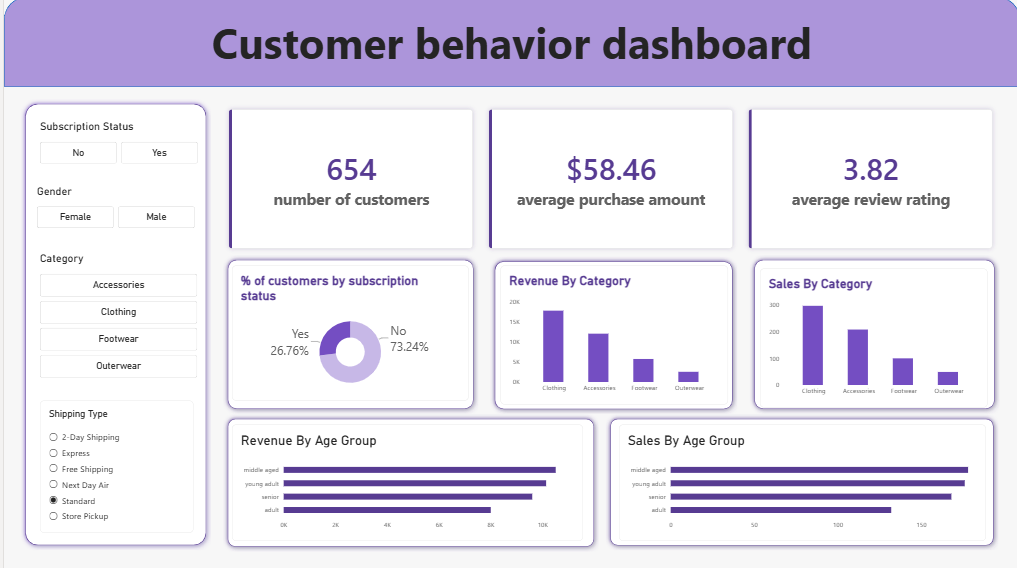

The page's visual inventory and layout, read from the dashboard file:
{"tool":"powerbi","page":{"name":"Page 1","canvas":[1920,1080],"ordinal":0},"visuals":[{"type":"cardVisual","fields":{"Data":["public customer.number of customers","public customer.average purchase amount","public customer.average review rating"]},"box":[412.5,202.5,1467.5,285],"z":0},{"type":"shape","box":[0,0,1920,170],"z":1000},{"type":"textbox","box":[0,32.5,1920,110],"z":2000},{"type":"shape","box":[412.5,487.5,482.5,300],"z":3000},{"type":"donutChart","title":"% of customers by subscription status","fields":{"Category":["public customer.subscription_status"],"Y":["CountNonNull(public customer.customer_id)"]},"box":[430,507.5,447.5,255],"z":4000},{"type":"shape","box":[917.5,490,467.5,297.5],"z":5000},{"type":"shape","box":[1407.5,487.5,472.5,300],"z":6000},{"type":"clusteredColumnChart","title":"Revenue By Category ","fields":{"Category":["public customer.category"],"Y":["Sum(public customer.purchase_amount)"]},"box":[937.5,507.5,430,262.5],"z":7000},{"type":"clusteredColumnChart","title":"Sales By Category ","fields":{"Category":["public customer.category"],"Y":["CountNonNull(public customer.customer_id)"]},"box":[1427.5,512.5,430,262.5],"z":8000},{"type":"shape","box":[32.5,192.5,360,852.5],"z":9000},{"type":"advancedSlicerVisual","fields":{"Values":["public customer.subscription_status"]},"box":[67.5,232.5,298,83],"z":10000},{"type":"advancedSlicerVisual","fields":{"Values":["public customer.gender"]},"box":[62.5,355,298,83],"z":11000},{"type":"advancedSlicerVisual","fields":{"Values":["public customer.category"]},"box":[67.5,482.5,297.5,240],"z":12000},{"type":"listSlicer","fields":{"Values":["public customer.shipping_type"]},"box":[67.5,762.5,290,250],"z":13000},{"type":"shape","box":[413.3,786.7,710,260],"z":15000},{"type":"shape","box":[1136.7,789.2,742.5,257.5],"z":15001},{"type":"clusteredBarChart","title":"Sales By Age Group ","fields":{"Category":["public customer.age_group"],"Y":["CountNonNull(public customer.customer_id)"]},"box":[1163.3,806.7,693.3,220],"z":15002},{"type":"clusteredBarChart","title":"Revenue By Age Group ","fields":{"Category":["public customer.age_group"],"Y":["Sum(public customer.purchase_amount)"]},"box":[430,806.7,663.3,220],"z":15003}]}

Visuals, with their boxes in screenshot pixels (x1, y1, x2, y2), scaled from the page's 1920x1080 canvas onto the 1017x568 screenshot:
cardVisual - public customer.number of customers x public customer.average purchase amount: l=218, t=106, r=996, b=256
shape: l=0, t=0, r=1016, b=89
textbox: l=0, t=17, r=1016, b=75
shape: l=218, t=256, r=474, b=414
"% of customers by subscription status" donutChart: l=228, t=267, r=465, b=401
shape: l=486, t=258, r=734, b=414
shape: l=746, t=256, r=996, b=414
"Revenue By Category " clusteredColumnChart: l=497, t=267, r=724, b=405
"Sales By Category " clusteredColumnChart: l=756, t=270, r=984, b=408
shape: l=17, t=101, r=208, b=550
advancedSlicerVisual - public customer.subscription_status: l=36, t=122, r=194, b=166
advancedSlicerVisual - public customer.gender: l=33, t=187, r=191, b=230
advancedSlicerVisual - public customer.category: l=36, t=254, r=193, b=380
listSlicer - public customer.shipping_type: l=36, t=401, r=189, b=532
shape: l=219, t=414, r=595, b=550
shape: l=602, t=415, r=995, b=550
"Sales By Age Group " clusteredBarChart: l=616, t=424, r=983, b=540
"Revenue By Age Group " clusteredBarChart: l=228, t=424, r=579, b=540
